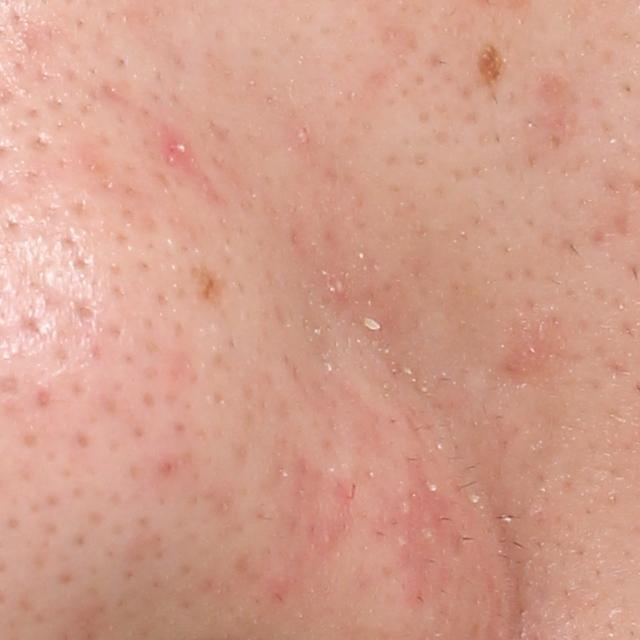nevus: (185, 257, 228, 310), (477, 36, 507, 92)
